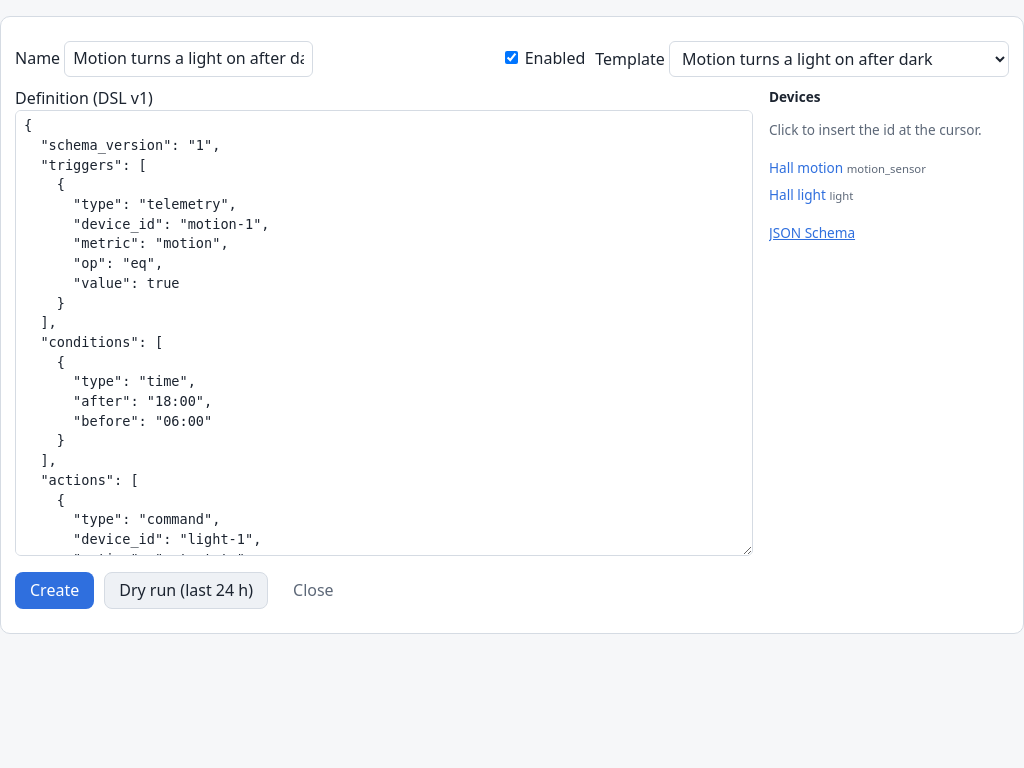
AutomationEditor › shows where the server found the definition invalid
This screenshot has width=1024, height=768.
Click the button "Create" at x=55, y=590, box [15,572,94,609]
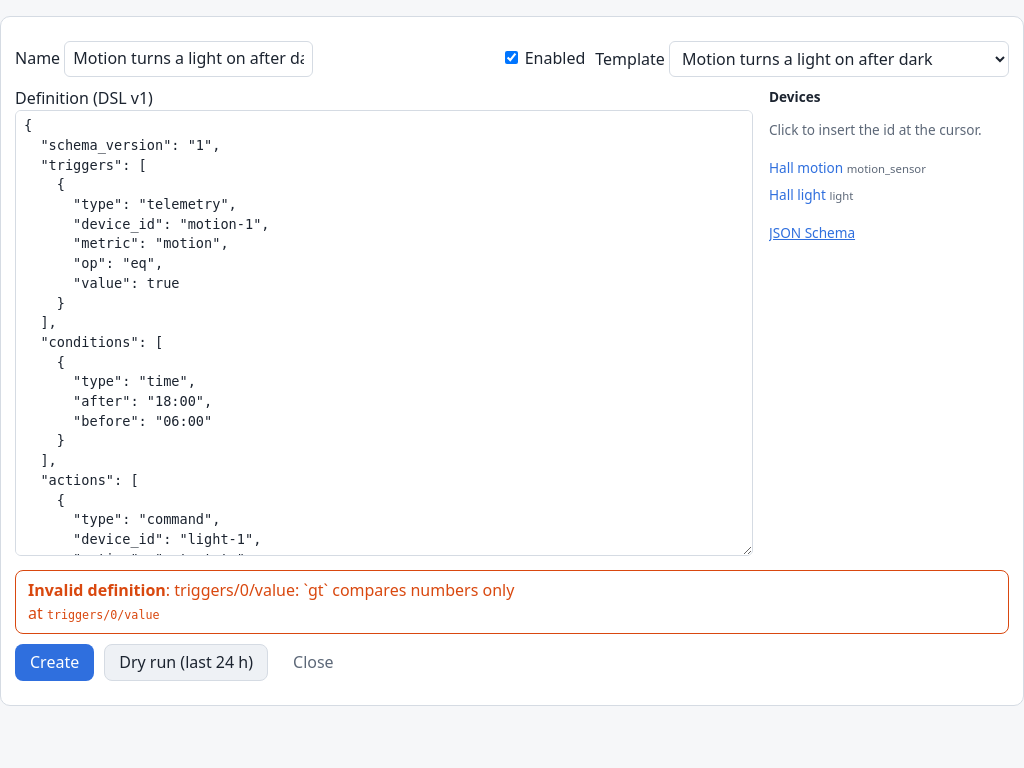
Expected: the message shows "Invalid definition", [28,579,166,601]
Expected: the message shows "at triggers/0/value", [15,570,1009,634]
